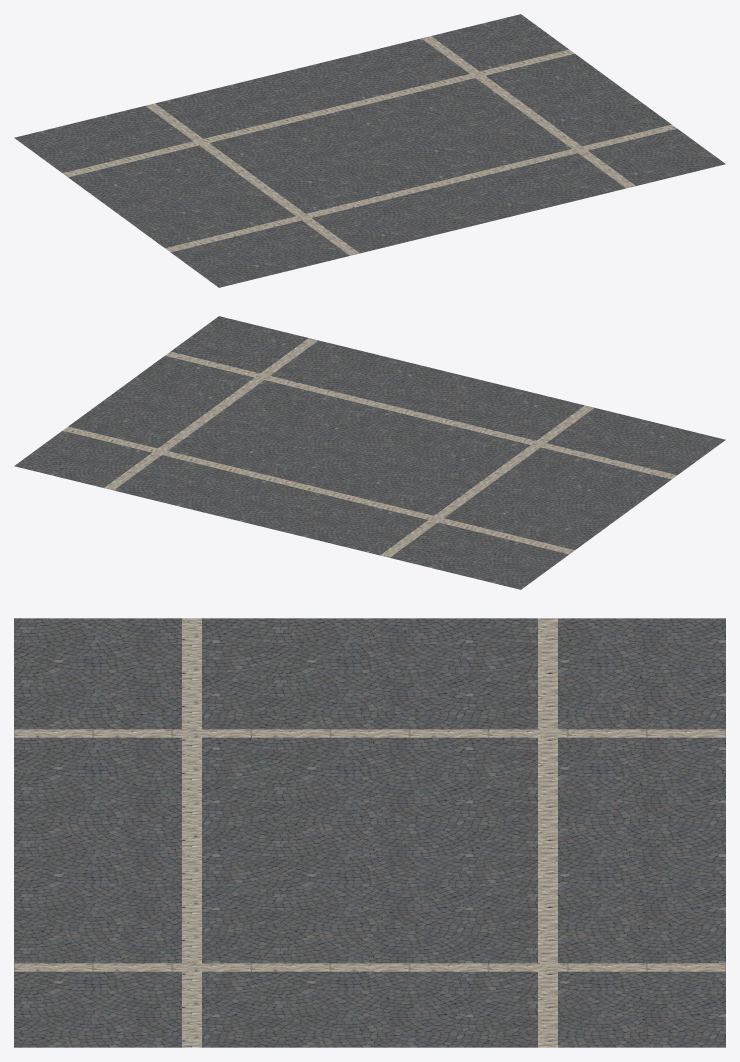
File: SM_Pav_FasciaPalme_9m.fbx
3 views of the same model, one above another, from view 1: azimuth 30°, elevation 25°; view 2: azimuth 150°, elevation 25°; view 3: azimuth 270°, elevation 25° (orthographic). The views are drawn at different scales.
Parts seen in each view (by area): view 1: SM_Pav_FasciaPalme_9m; view 2: SM_Pav_FasciaPalme_9m; view 3: SM_Pav_FasciaPalme_9m.
Part boxes in pixels (bbox=[...]): SM_Pav_FasciaPalme_9m: bbox=[14, 14, 725, 287]; SM_Pav_FasciaPalme_9m: bbox=[14, 316, 725, 589]; SM_Pav_FasciaPalme_9m: bbox=[14, 618, 725, 1047].
Size of what is drawn, in the model's own units: 1285 by 900 by 0.
Materials: 2 (2 with a texture image).
